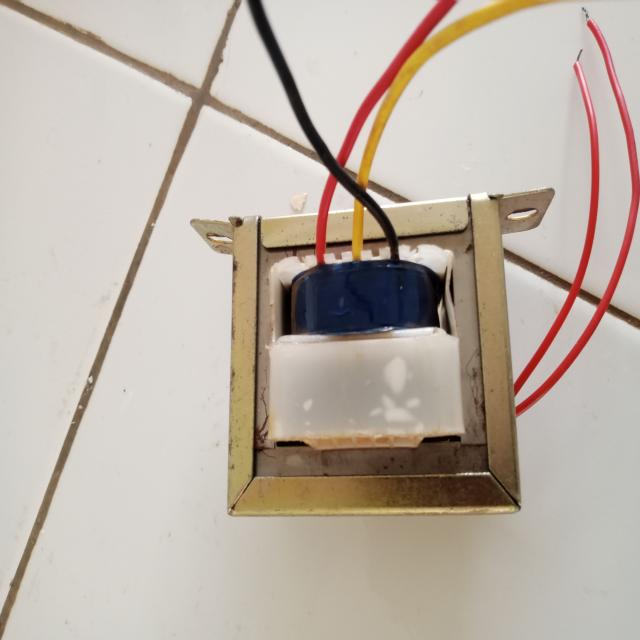Stepdown Transformer: (206, 192, 545, 533)
